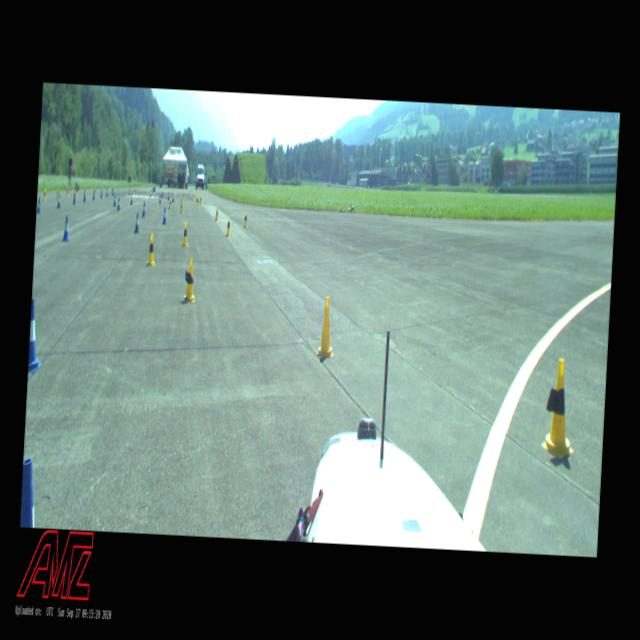blue_cone: (20, 458, 38, 528), (28, 299, 44, 373), (62, 216, 70, 241), (134, 213, 140, 233), (36, 198, 42, 214), (162, 207, 167, 225), (142, 202, 146, 218), (57, 195, 61, 208), (117, 198, 121, 210), (158, 193, 162, 204), (130, 194, 134, 205), (73, 193, 76, 204), (83, 191, 86, 202), (92, 190, 95, 200), (114, 195, 116, 207), (106, 188, 108, 197), (168, 192, 170, 201), (100, 190, 102, 198), (172, 194, 174, 202)
yellow_cone: (541, 358, 578, 459), (316, 297, 336, 359), (184, 258, 197, 303), (147, 234, 157, 266), (182, 222, 190, 246), (226, 216, 232, 236), (244, 210, 248, 228), (56, 187, 60, 200), (66, 186, 70, 198), (180, 201, 183, 214), (43, 188, 46, 200), (169, 198, 172, 210), (216, 206, 218, 222), (192, 192, 195, 200), (76, 187, 78, 196), (197, 198, 199, 206), (200, 196, 202, 204), (152, 188, 154, 196), (172, 190, 174, 198), (183, 192, 185, 200), (134, 188, 136, 195), (181, 197, 182, 206), (196, 195, 197, 202)
